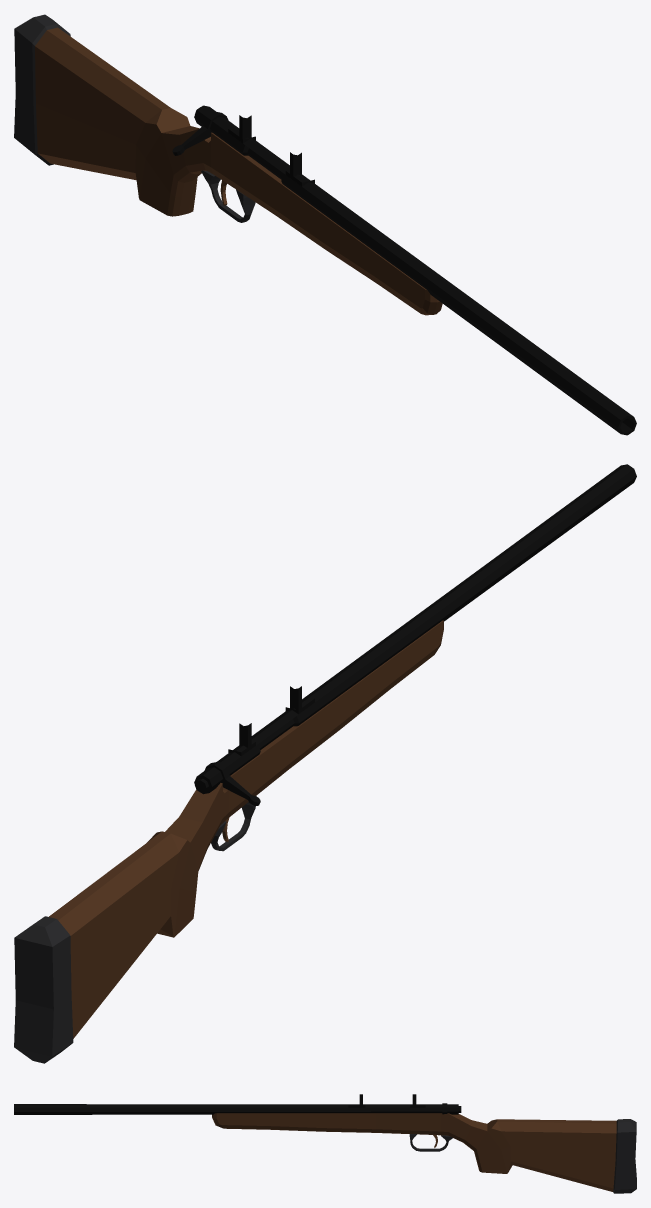
The model's file is bolt_rifle.glb.
3 views of the same model, one above another, from view 1: azimuth 30°, elevation 25°; view 2: azimuth 150°, elevation 25°; view 3: azimuth 270°, elevation 25° (orthographic). The views are drawn at different scales.
Parts seen in each view (by area): view 1: SniperRifle_6; view 2: SniperRifle_6; view 3: SniperRifle_6.
Part boxes in pixels (x1,y1,x2,y2): SniperRifle_6: (14, 14, 636, 435); SniperRifle_6: (14, 464, 636, 1063); SniperRifle_6: (14, 1094, 636, 1193).
Size of the model in its own units: 0.0644 by 0.1856 by 1.06.
